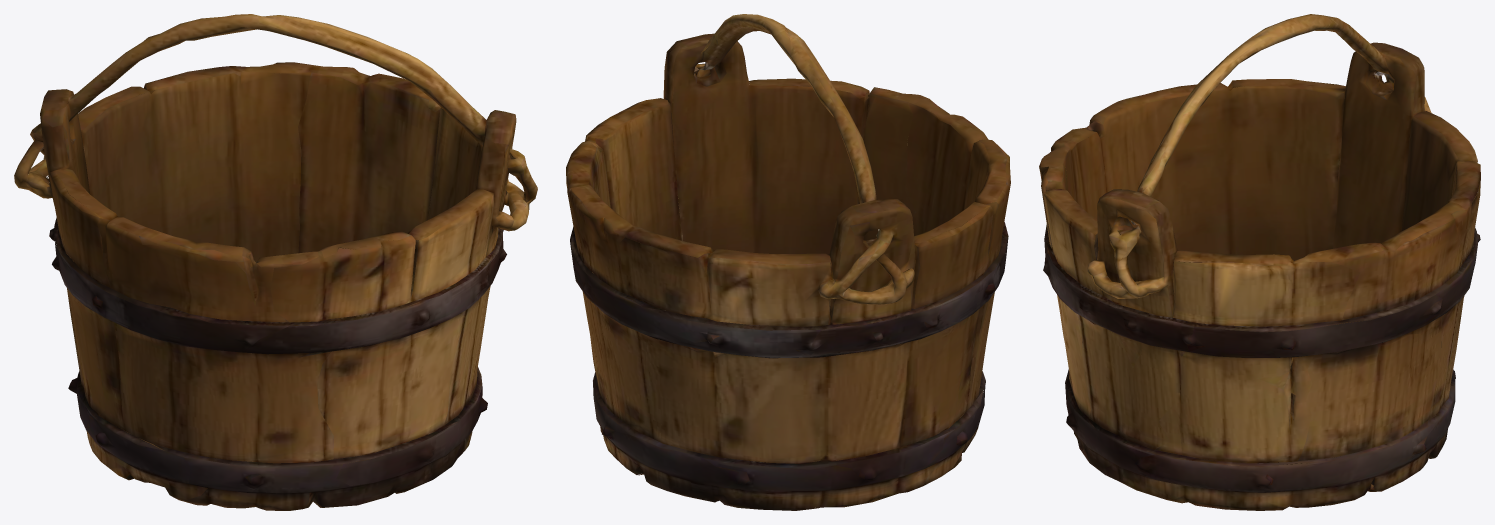
The model's file is balde.glb.
The picture shows the model from 3 angles, left to right: view 1: azimuth 30°, elevation 25°; view 2: azimuth 150°, elevation 25°; view 3: azimuth 270°, elevation 25°; orthographic projection. The views are drawn at different scales.
Visible parts, largest first — view 1: geometry_0; view 2: geometry_0; view 3: geometry_0.
Boxes of the visible parts, left/top/right/bottom form: geometry_0: left=14, top=14, right=537, bottom=510; geometry_0: left=566, top=14, right=1010, bottom=510; geometry_0: left=1039, top=14, right=1480, bottom=510.
Bounding box in the file's own units: 0.32 × 0.32 × 0.32.
1 material, 1 textured.
